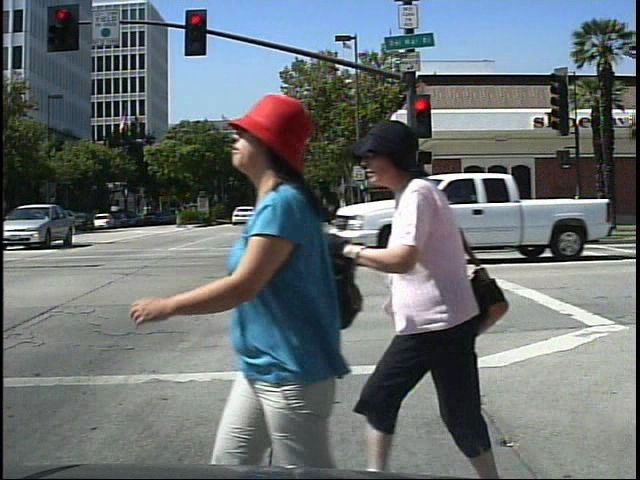person: (126, 63, 370, 474), (357, 116, 527, 480)
